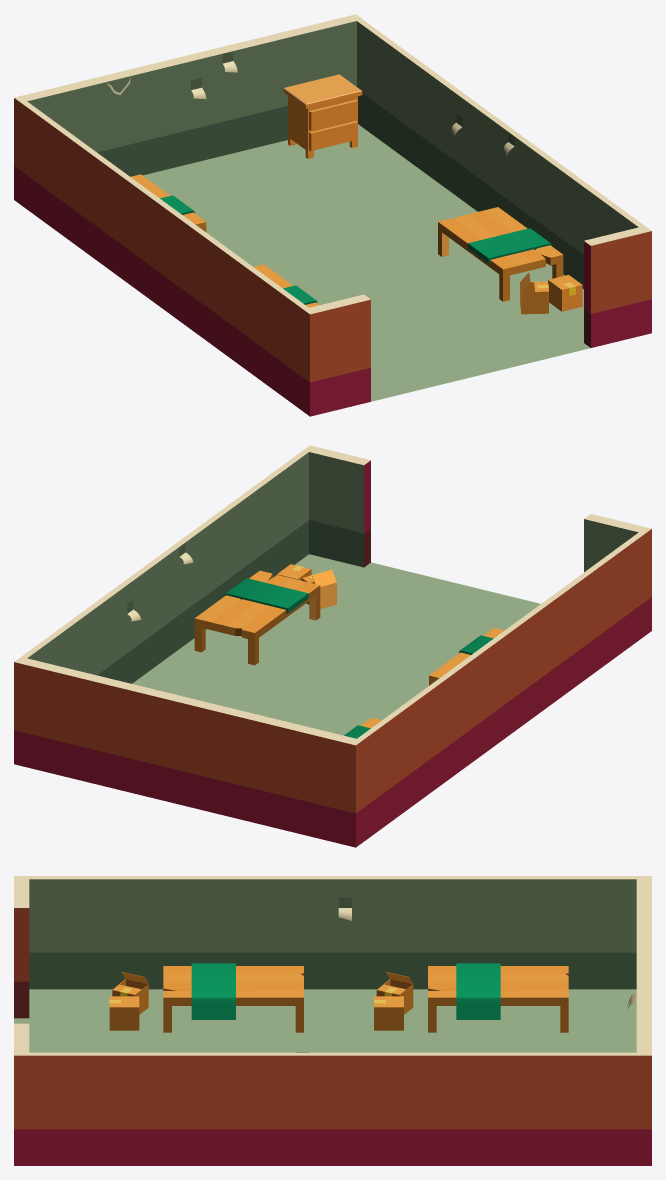
Rendered from Barrack_Lv1_a_winter.fbx.
The picture shows the model from 3 angles, top to bottom: view 1: azimuth 30°, elevation 25°; view 2: azimuth 150°, elevation 25°; view 3: azimuth 270°, elevation 25°; orthographic projection. The views are drawn at different scales.
Parts seen in each view (by area): view 1: floor, wall_half8, wall33, wall_half9, wall35, wall34, Bed_3, Small_Cabinet1, Box3, decor, Bed_1, Bed_2; view 2: wall33, floor, wall_half8, wall_half9, wall34, Bed_3, wall35, Box3, Bed_2; view 3: wall_half9, wall_half8, floor, Bed_2, Bed_1, wall33, wall35, Box2, Box1, wall34.
Boxes of the visible parts, x1,y1,x2,y2 form: floor: [143, 124, 590, 401]; wall_half8: [14, 99, 308, 410]; wall33: [14, 14, 361, 204]; wall_half9: [350, 15, 646, 288]; wall35: [303, 294, 370, 416]; wall34: [584, 227, 651, 347]; Bed_3: [438, 207, 563, 301]; Small_Cabinet1: [283, 74, 362, 158]; Box3: [520, 272, 582, 314]; decor: [106, 51, 514, 155]; Bed_1: [130, 174, 206, 231]; Bed_2: [253, 264, 319, 307]; wall33: [20, 658, 362, 847]; floor: [132, 554, 540, 735]; wall_half8: [349, 530, 646, 847]; wall_half9: [14, 448, 311, 765]; wall34: [306, 445, 370, 567]; Bed_3: [194, 570, 320, 665]; wall35: [584, 514, 651, 635]; Box3: [277, 564, 336, 608]; Bed_2: [429, 628, 504, 685]; wall_half9: [23, 1052, 651, 1165]; wall_half8: [23, 876, 646, 989]; floor: [14, 989, 636, 1052]; Bed_2: [163, 963, 303, 1032]; Bed_1: [428, 963, 568, 1032]; wall33: [636, 876, 651, 1165]; wall35: [14, 876, 29, 1018]; Box2: [109, 972, 148, 1030]; Box1: [374, 972, 413, 1030]; wall34: [14, 1023, 29, 1165].
Bounding box in the file's own units: 700 × 201 × 1050.
